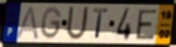4: (115, 7, 133, 42)
A: (15, 5, 40, 41)
E: (135, 9, 159, 41)
G: (40, 6, 63, 41)
T: (93, 7, 110, 40)
U: (64, 5, 90, 43)
